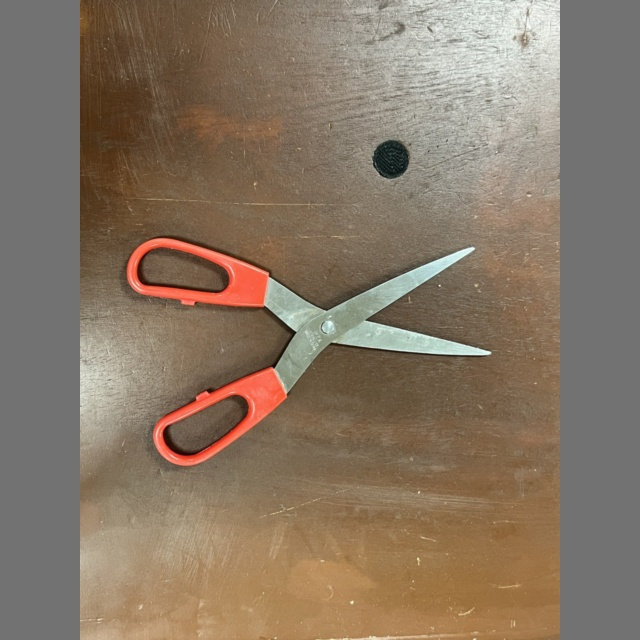scissor: (127, 237, 490, 466)
